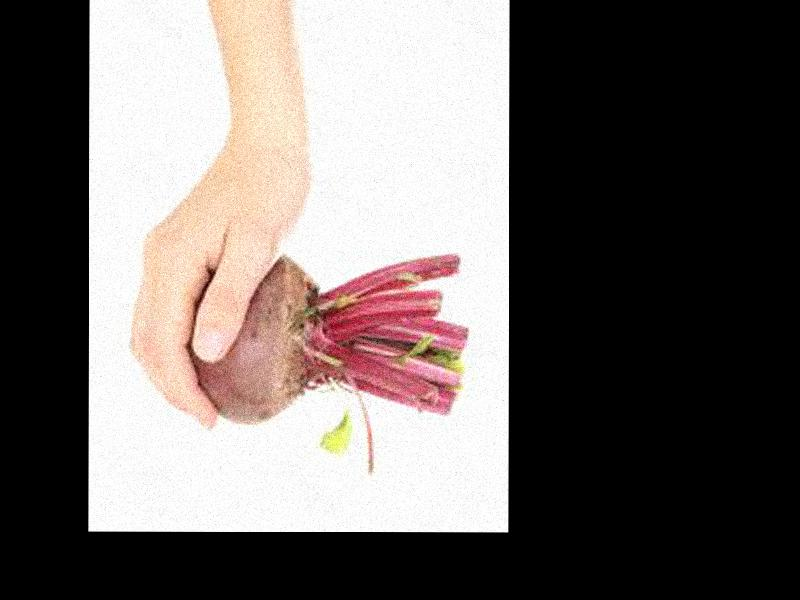Beet: (186, 255, 467, 476)
